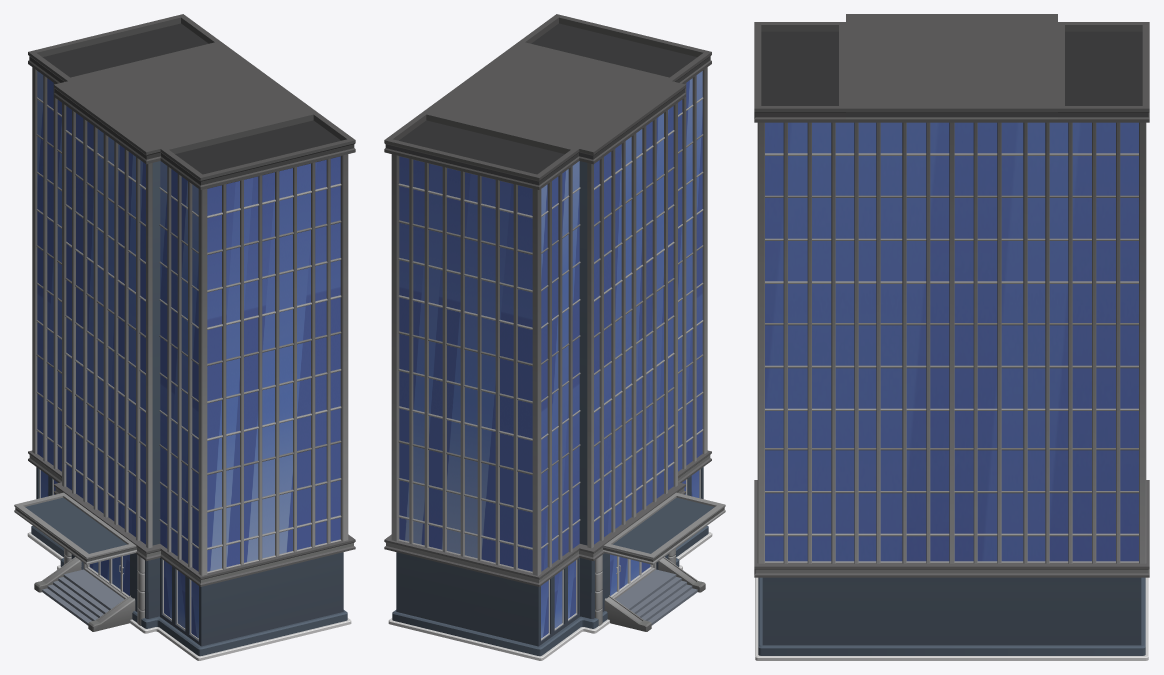
The model's file is Building_17_2_KK.glb.
3 views of the same model, side by side, from view 1: azimuth 30°, elevation 25°; view 2: azimuth 150°, elevation 25°; view 3: azimuth 270°, elevation 25° (orthographic). The views are drawn at different scales.
Parts seen in each view (by area): view 1: Building_17_2_KK; view 2: Building_17_2_KK; view 3: Building_17_2_KK.
Boxes of the visible parts, box(x1,y1,x2,y2) form: Building_17_2_KK: box(14, 14, 355, 660); Building_17_2_KK: box(384, 14, 725, 660); Building_17_2_KK: box(754, 14, 1149, 660).
Size of the model in its own units: 8.57 by 18.05 by 11.68.
Materials: 4 (4 with a texture image).
